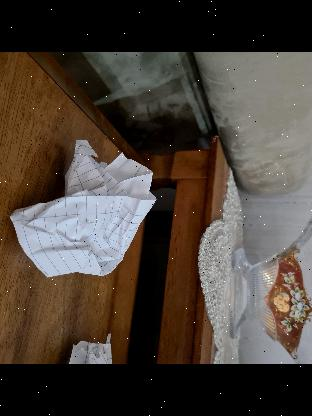Others: (10, 142, 158, 278)
